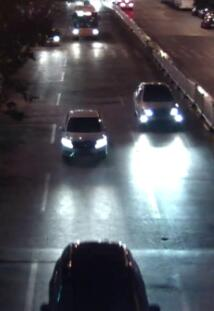bus: (70, 4, 101, 40)
car: (37, 239, 159, 309), (55, 104, 111, 162), (128, 78, 188, 129), (36, 27, 62, 46)
